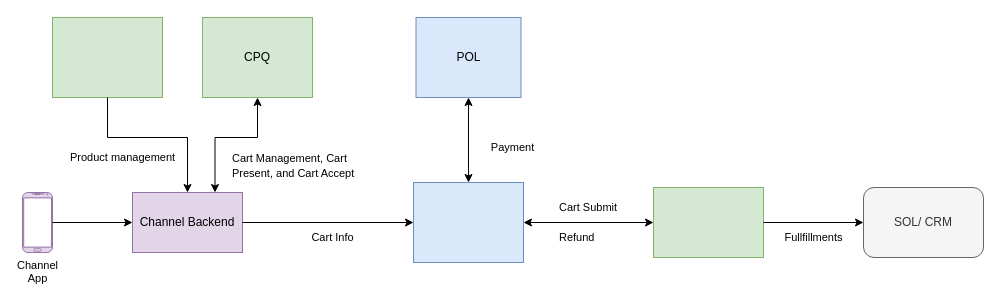
Image size: 1001x303. Some labels were removed from this diagram. Here are the shapes that lost their labels. From the top down, the box of each, then its label:
(52, 16, 162, 98): ECM - Product
(412, 182, 524, 262): SOL
(652, 186, 764, 258): EOC
